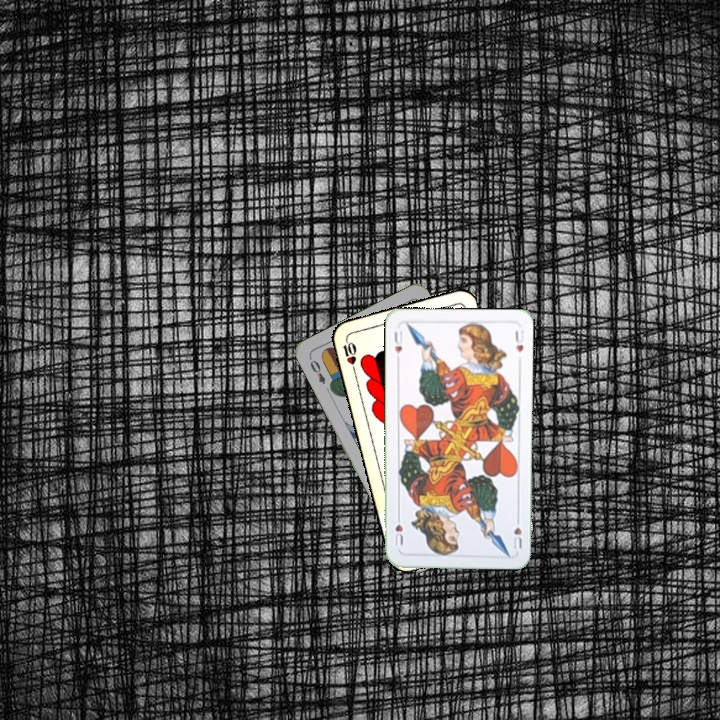EO: (305, 353, 328, 387)
H10: (339, 334, 359, 374)
HU: (510, 512, 524, 552), (390, 326, 405, 356)
